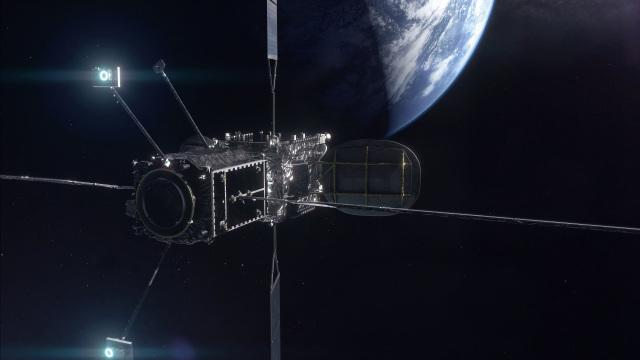antenna: (318, 139, 424, 218)
body: (131, 135, 323, 247)
solar: (299, 200, 640, 236), (0, 172, 134, 191), (269, 271, 282, 360), (265, 0, 279, 61)
